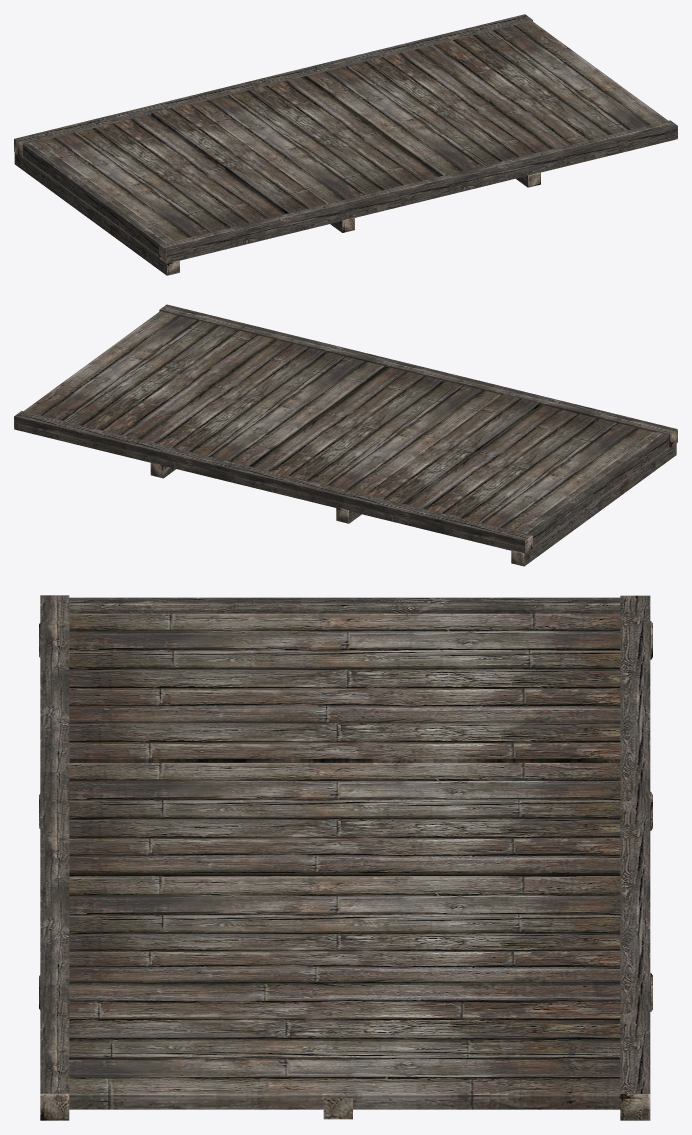
The model's file is WoodPlane01.FBX.
3 renders of one model, top to bottom at view 1: azimuth 30°, elevation 25°; view 2: azimuth 150°, elevation 25°; view 3: azimuth 270°, elevation 25°, orthographic. The views are drawn at different scales.
Parts seen in each view (by area): view 1: LV_Spechia_DogStadium_WoodPlane01_SM_PYO; view 2: LV_Spechia_DogStadium_WoodPlane01_SM_PYO; view 3: LV_Spechia_DogStadium_WoodPlane01_SM_PYO.
Boxes of the visible parts, left/top/right/bottom form: LV_Spechia_DogStadium_WoodPlane01_SM_PYO: left=14, top=14, right=677, bottom=275; LV_Spechia_DogStadium_WoodPlane01_SM_PYO: left=14, top=304, right=677, bottom=566; LV_Spechia_DogStadium_WoodPlane01_SM_PYO: left=39, top=595, right=652, bottom=1120.
Size of the model in its own units: 388 by 18.74 by 201.
